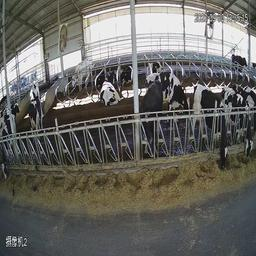cow: (191, 84, 228, 175), (142, 81, 163, 174), (229, 86, 253, 164), (168, 70, 194, 134), (1, 107, 20, 182), (97, 67, 127, 108), (69, 58, 91, 93), (28, 98, 46, 137), (227, 47, 248, 74), (120, 56, 134, 88), (26, 75, 41, 101), (147, 52, 164, 73)
